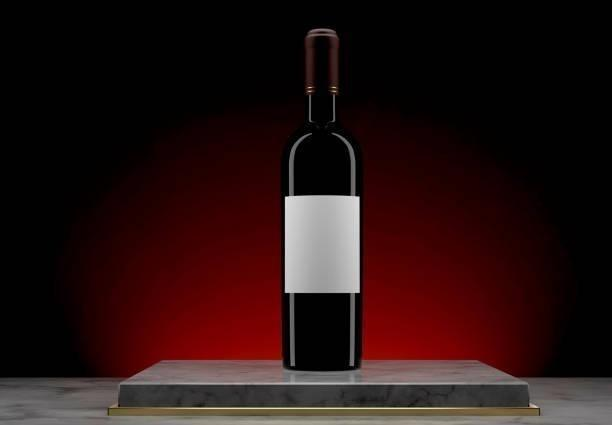bottle-glass: (276, 26, 368, 377)
